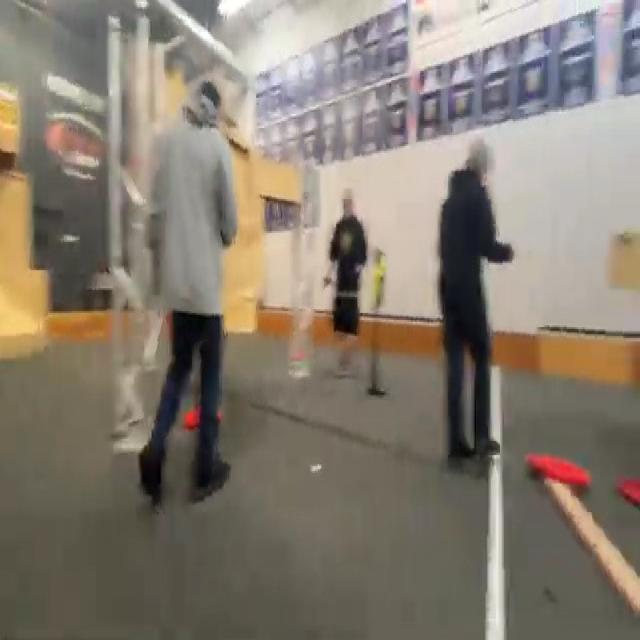note: (522, 452, 596, 487)
